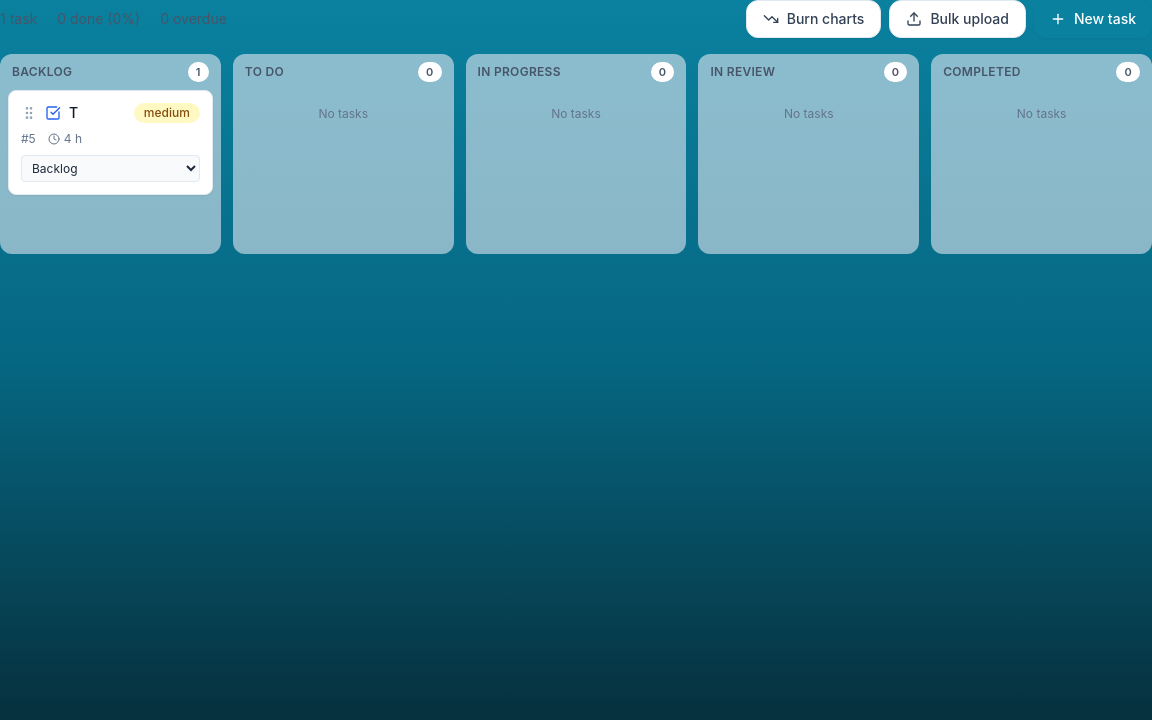
Test: creating and editing tasks › shows the conflict message when someone else changed the task
What coordinates should you click on to do the following:
click the button "T"
I would click on:
 (97, 113)
Its box is [69,103,126,123].
(page scrolled)
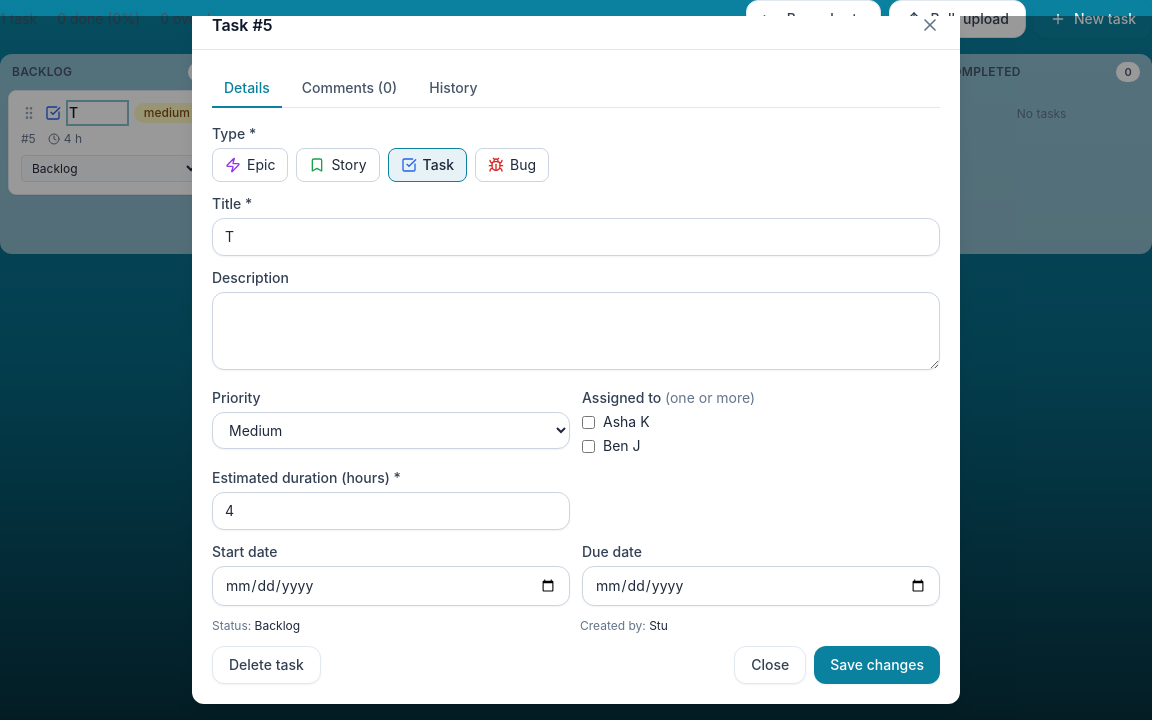
What coordinates should you click on to do the following:
click the button "Save changes"
I would click on:
 (877, 665)
Its box is [814,646,940,684].
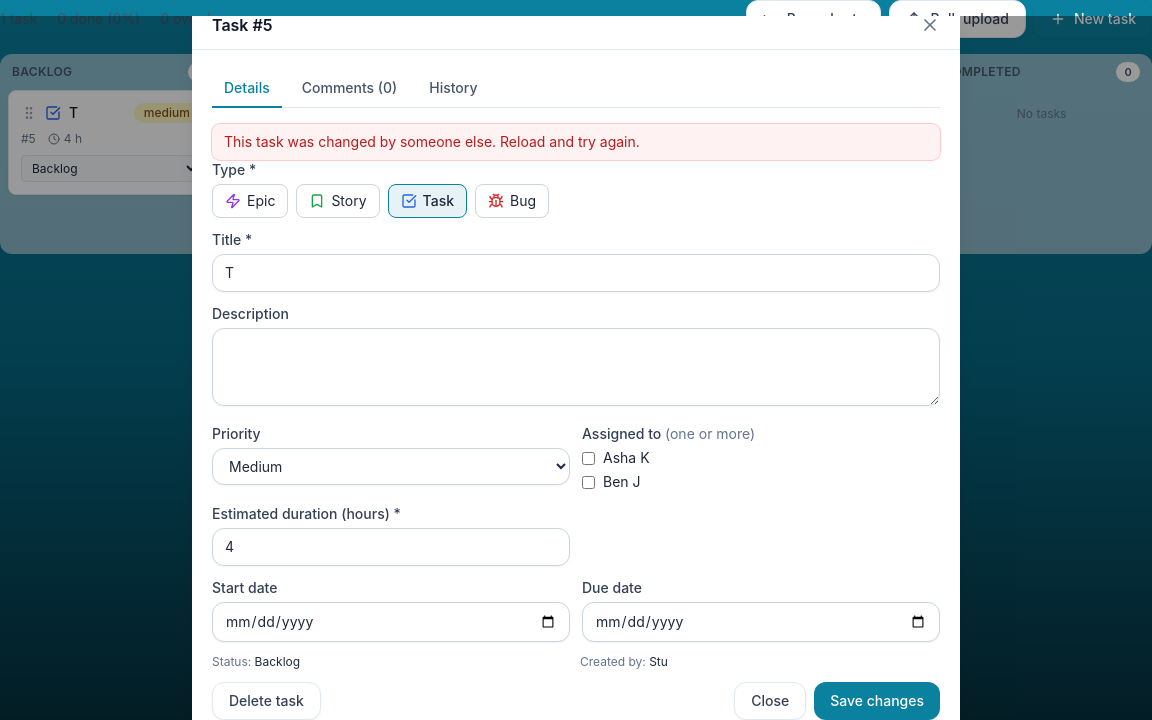
Expected: the message shows "changed by someone else", [224,133,640,150]
